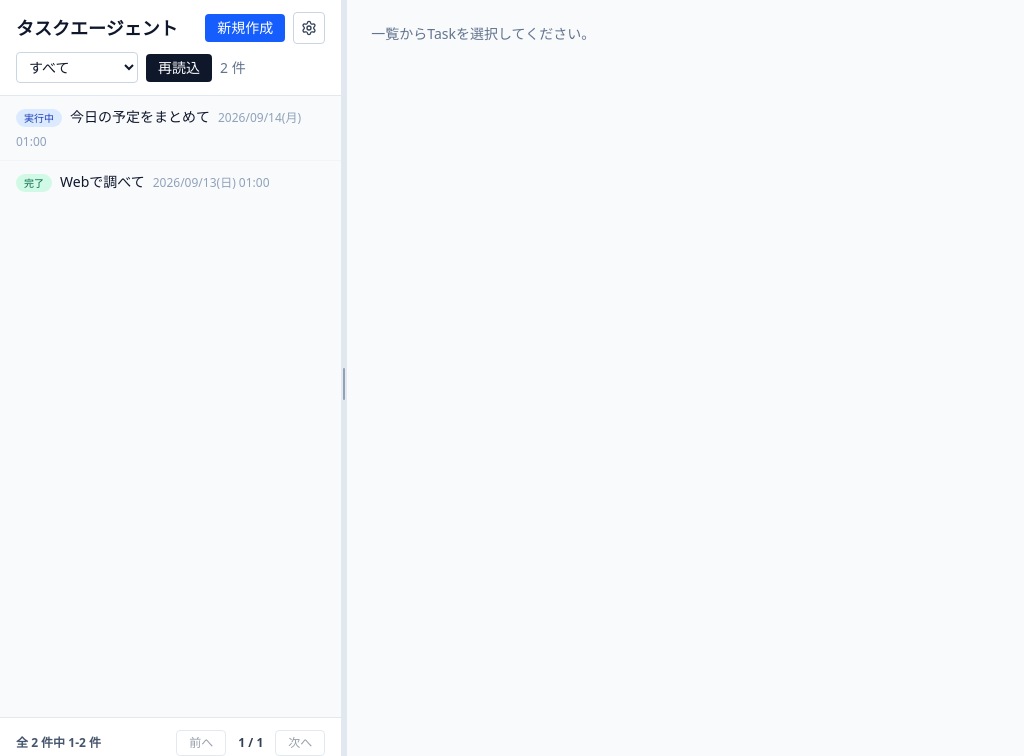
Test: TaskAgentPage (master-detail) › navigates from a list row to the detail
The width and height of the screenshot is (1024, 756).
Click the link with test id "task-agent-row" that starts with "実行中" at point(158, 128), box [16, 107, 301, 150]
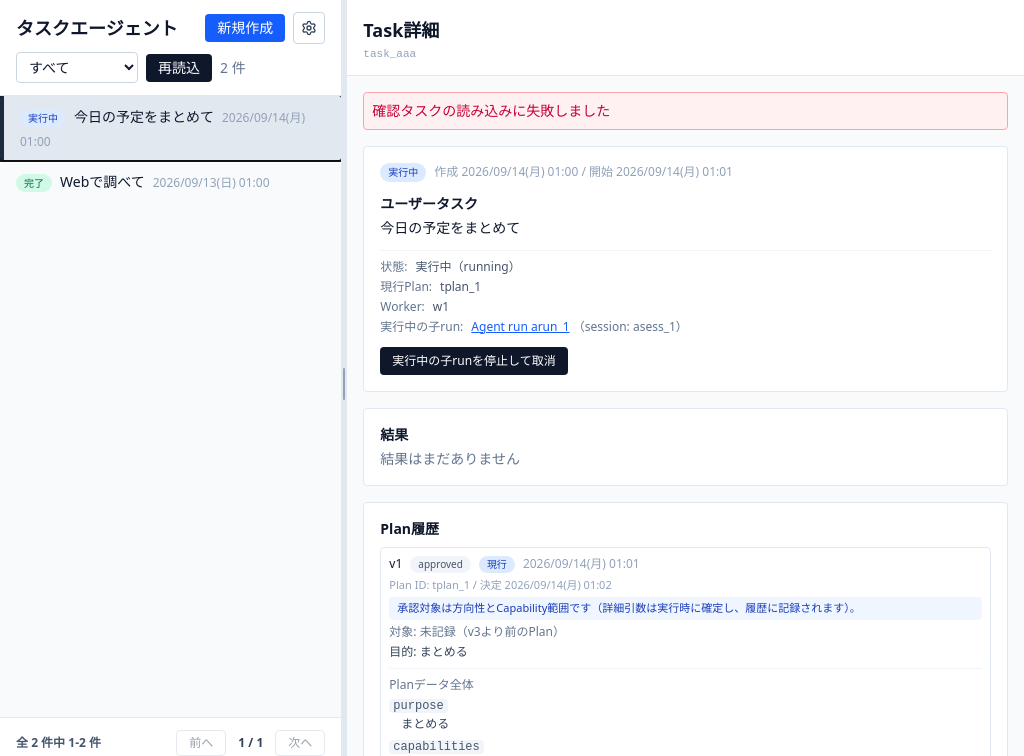
Result: the heading "Task詳細" is shown at [363, 18, 439, 42]
